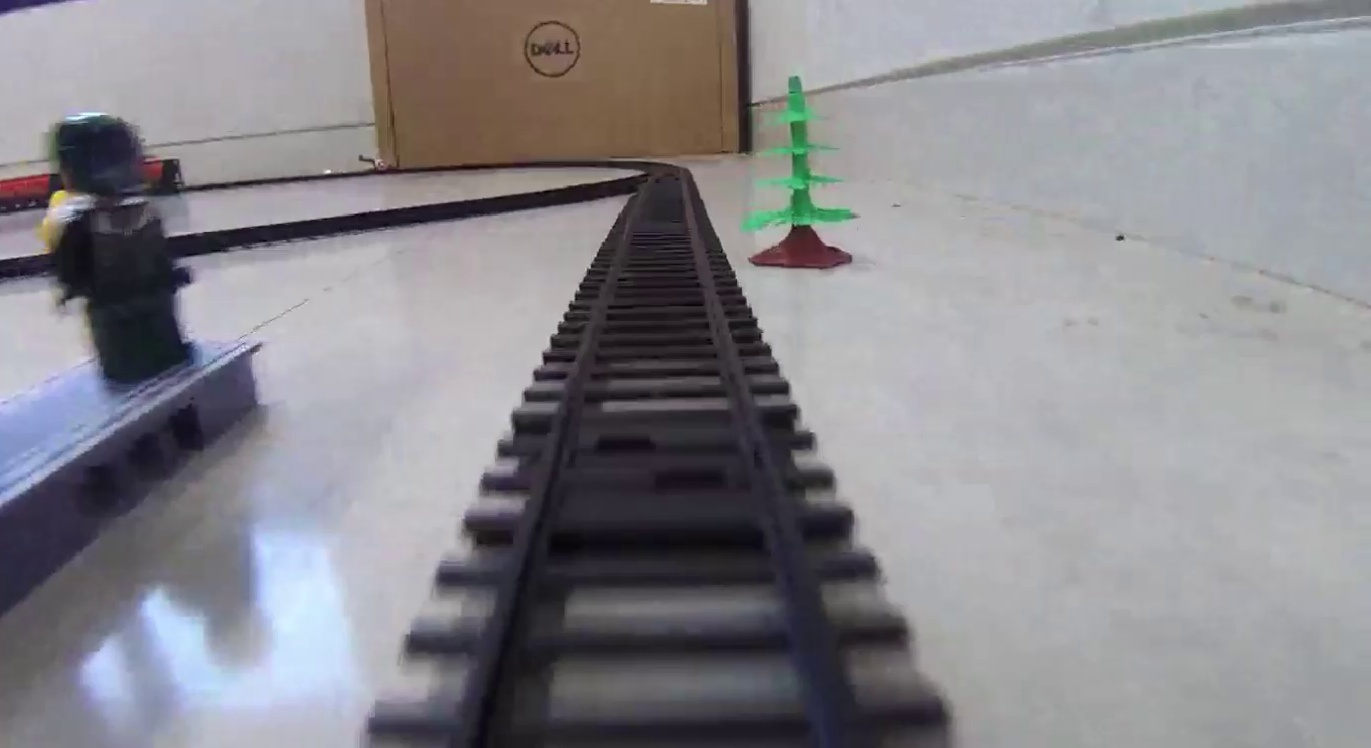people: (52, 121, 194, 378)
tree: (741, 72, 857, 274)
